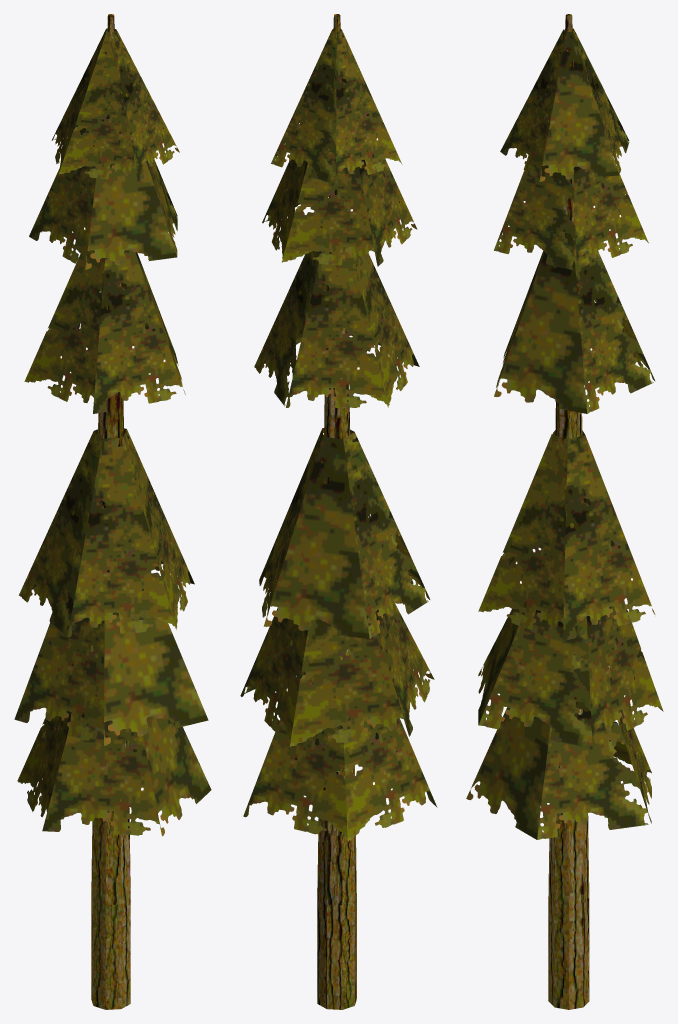
The model's file is Tree2VAR_1.fbx.
3 views of the same model, side by side, from view 1: azimuth 30°, elevation 25°; view 2: azimuth 150°, elevation 25°; view 3: azimuth 270°, elevation 25° (orthographic).
Visible parts, largest first — view 1: Cylinder.006; view 2: Cylinder.006; view 3: Cylinder.006.
Part boxes in pixels (x1,y1,x2,y2): Cylinder.006: [14, 14, 211, 1009]; Cylinder.006: [240, 14, 437, 1009]; Cylinder.006: [466, 14, 663, 1009].
Size of the model in its own units: 253 by 1409 by 256.
2 materials, 2 textured.
